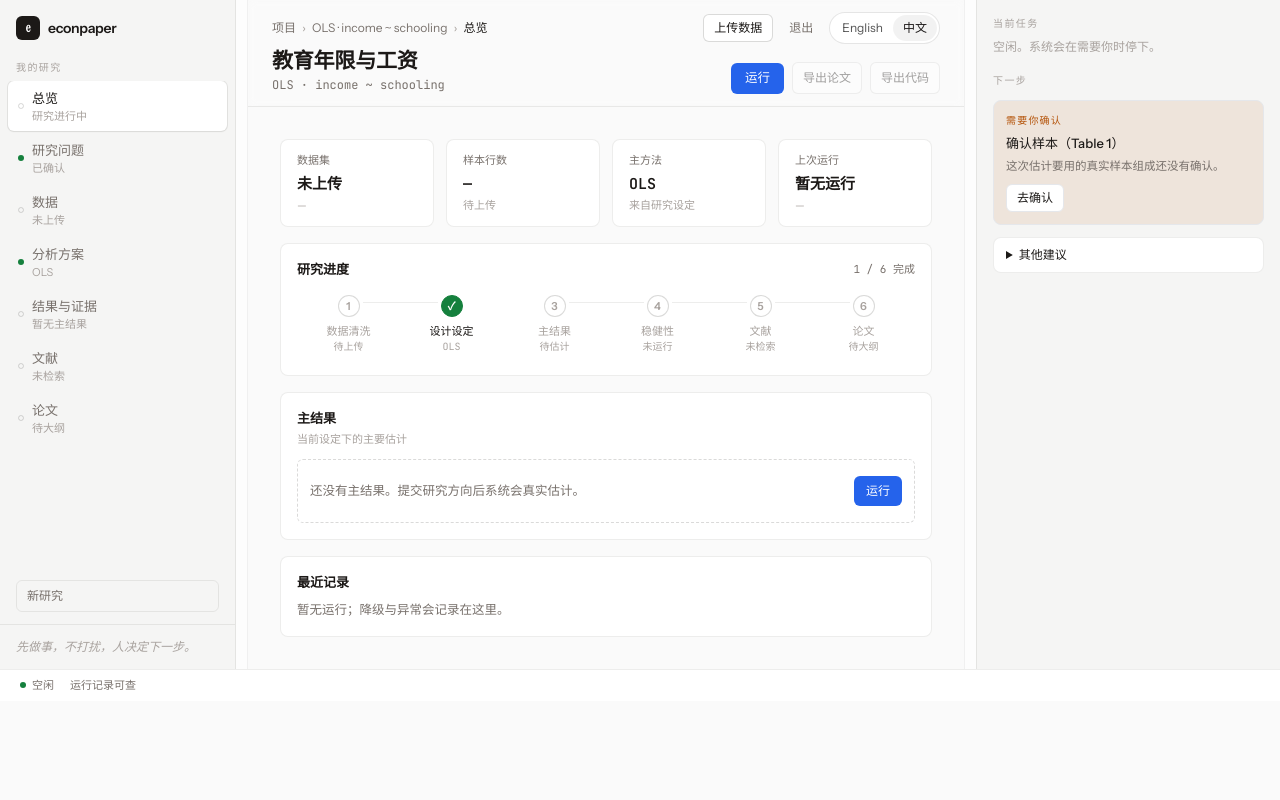
page-level consistency between the preview card and the next-step rail › asks for the sample confirmation on both sides when the assessment is unknown
Click the button with test id "rail-question": [118, 158] box [8, 133, 227, 183]
(page scrolled)
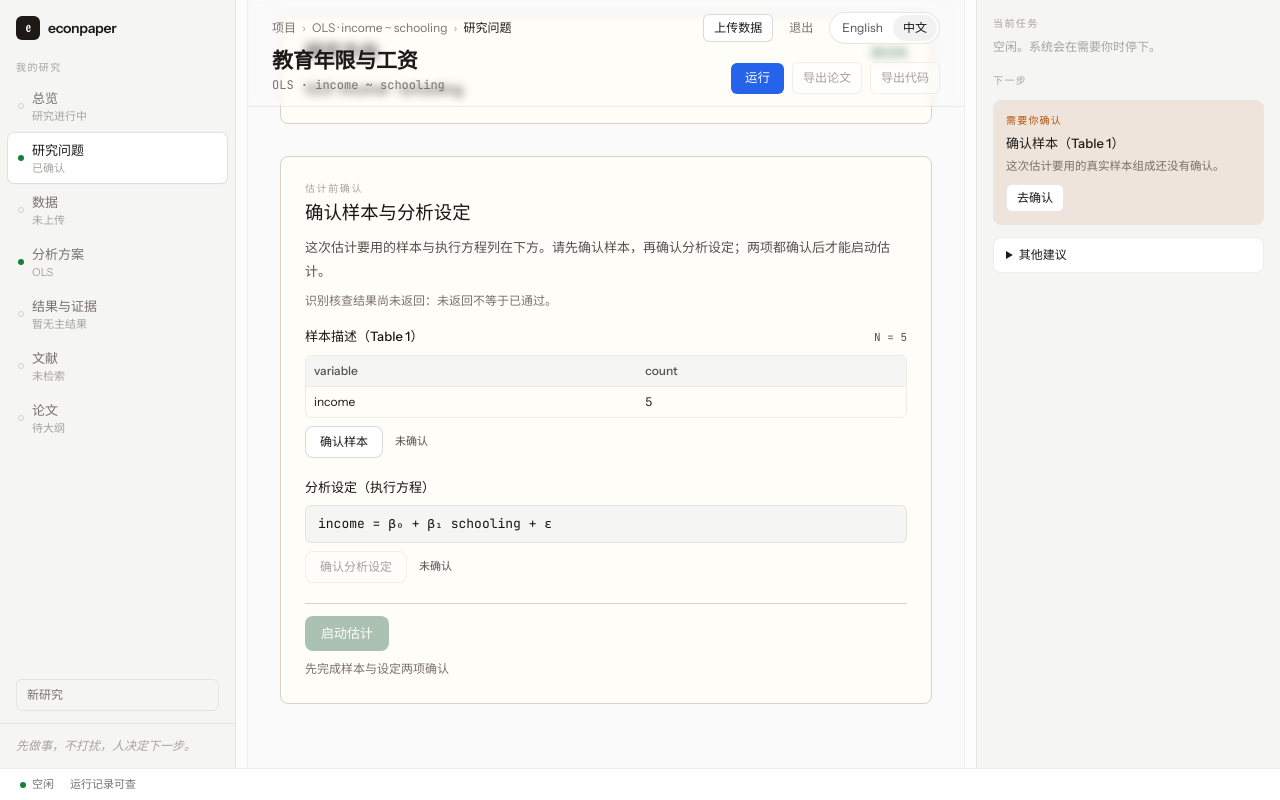
expect the heading with test id "decision-blocker-title" shows "样本": met, box [1006, 135, 1124, 151]
expect the text with test id "prewrite-permission-note" shows "尚未": met, box [305, 293, 557, 308]
expect the button with test id "confirm-table1-btn" is enabled: met, box [305, 426, 383, 458]
